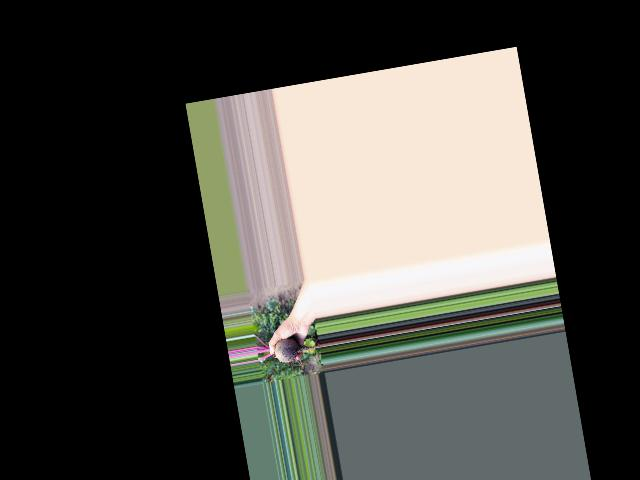beet: (254, 323, 324, 377)
